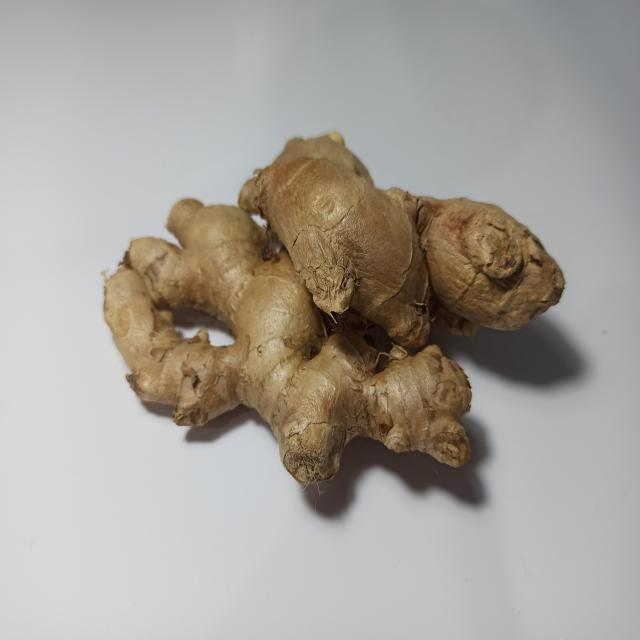ginger: (111, 125, 557, 483)
